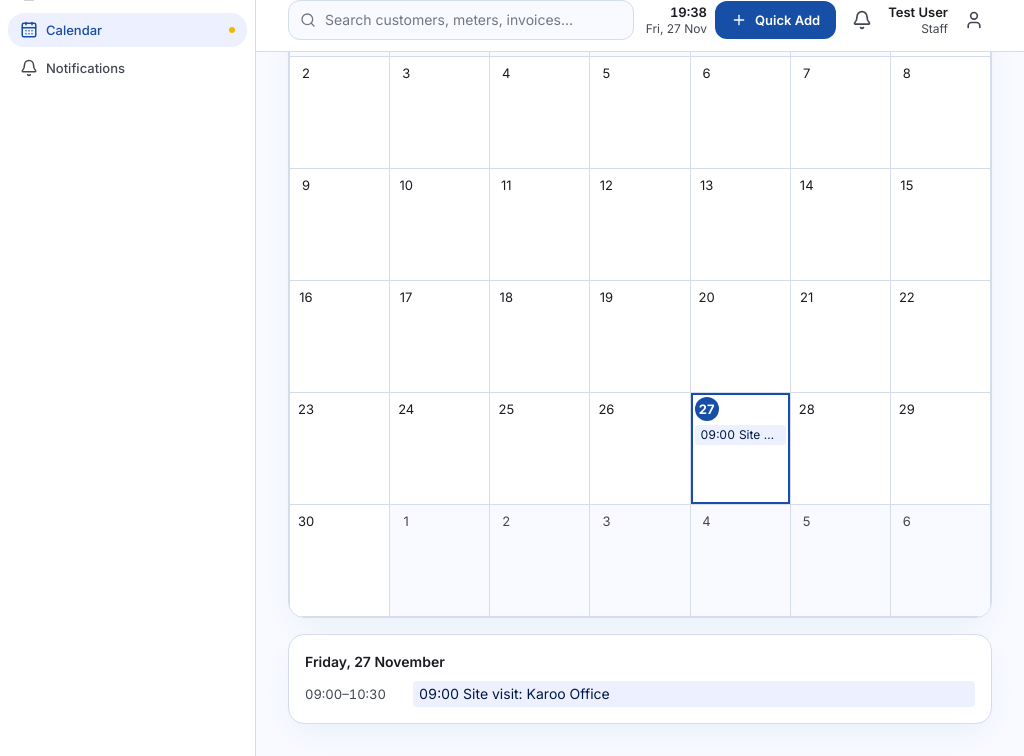
Test: the calendar › opens an event with its details, and lets its organiser delete it
(page scrolled)
Click the button with aria-label "Appointment: Site visit" at (740, 435), box [695,425,786,445]
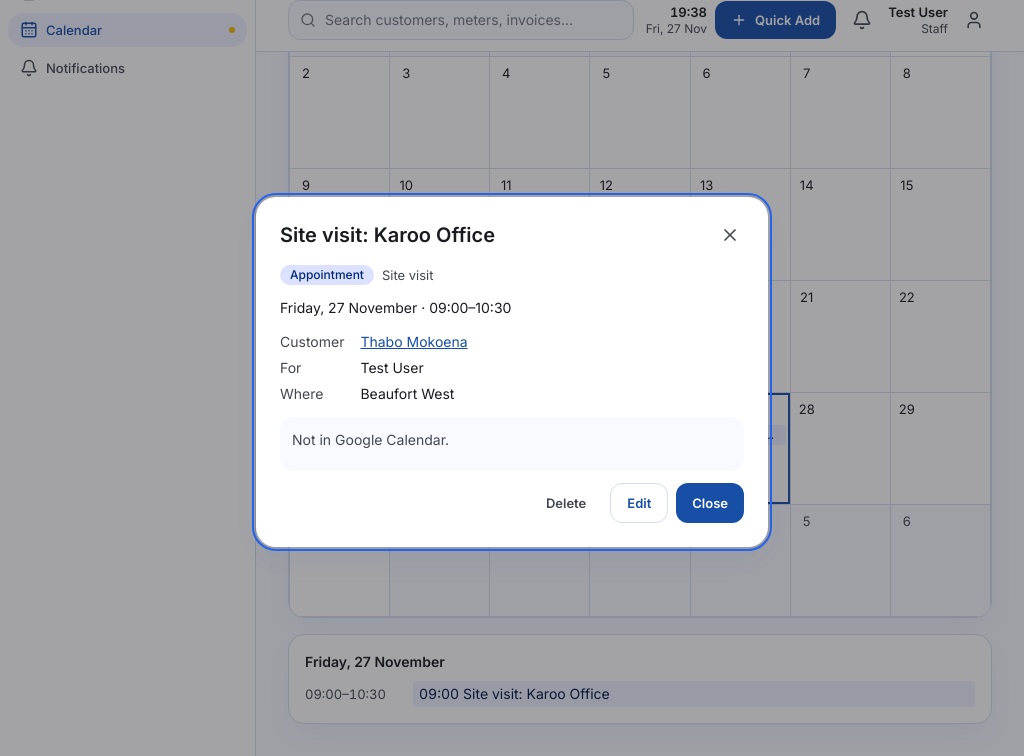
Check: the text "Beaufort West" is shown, box [360,385,454,402]
Click the button "Delete" at (566, 503), box [530,483,602,523]
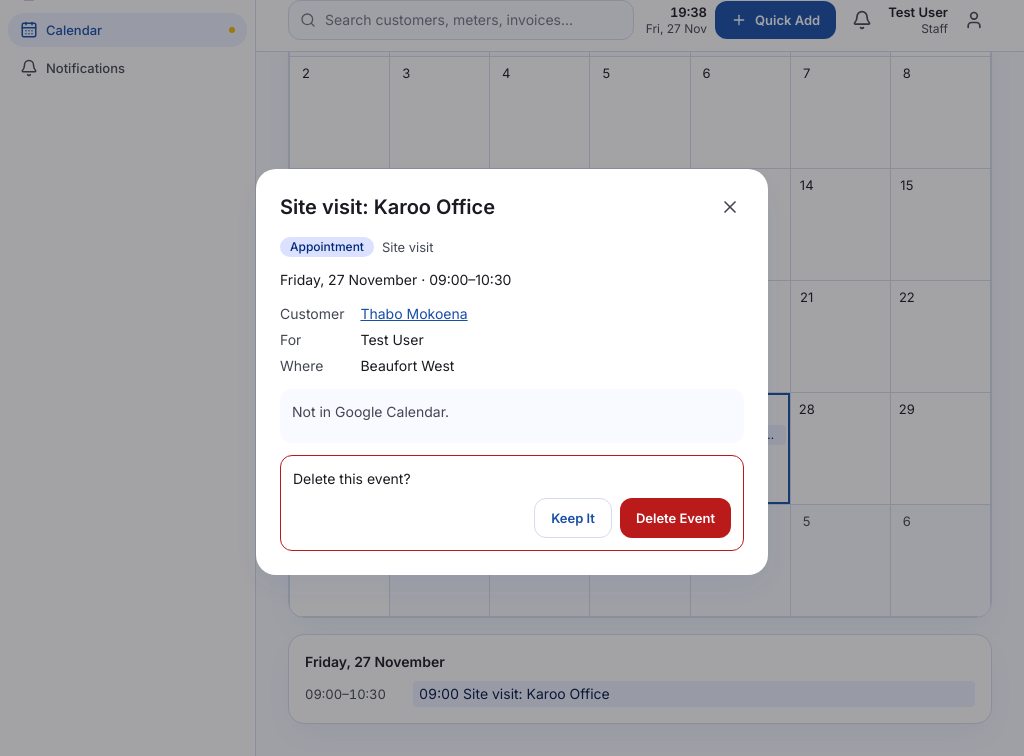
Click the button "Delete Event" at (675, 518), box [620,498,731,538]
(page scrolled)
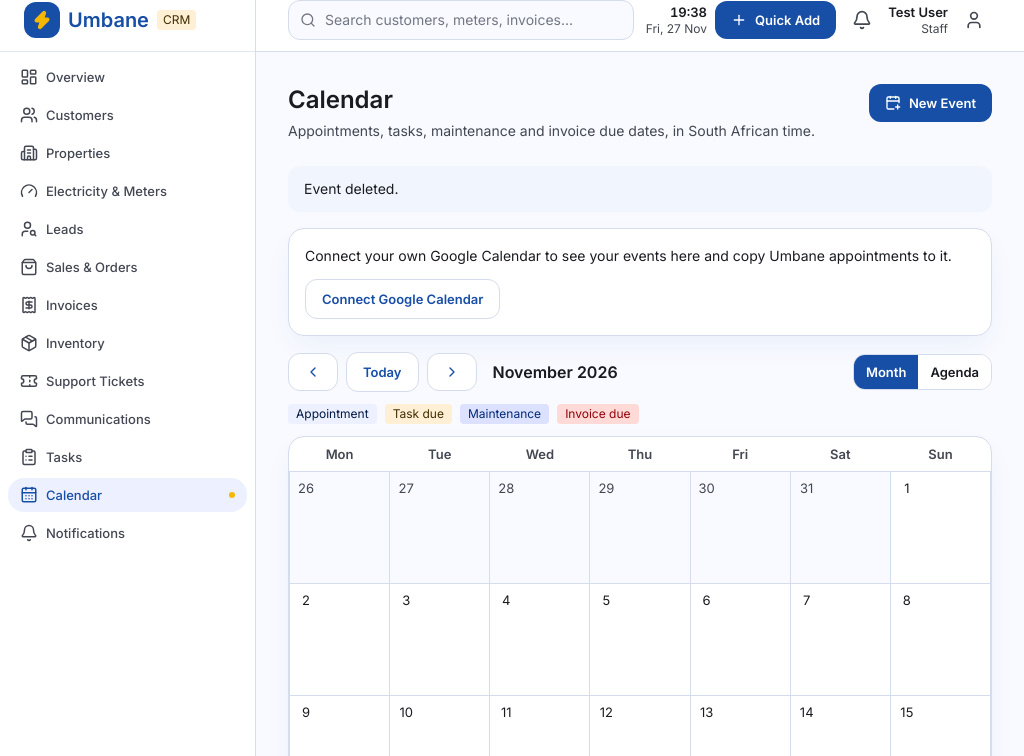
Check: the text "Event deleted." is shown, box [288,166,992,212]
